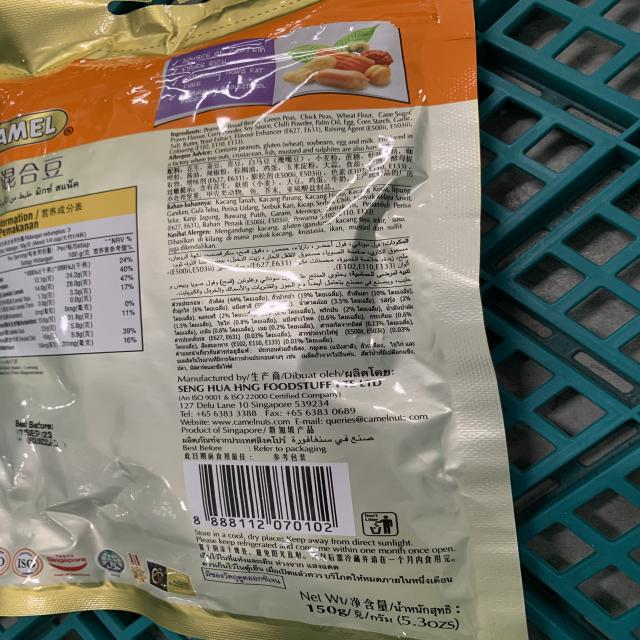object_name: (6, 0, 523, 640)
